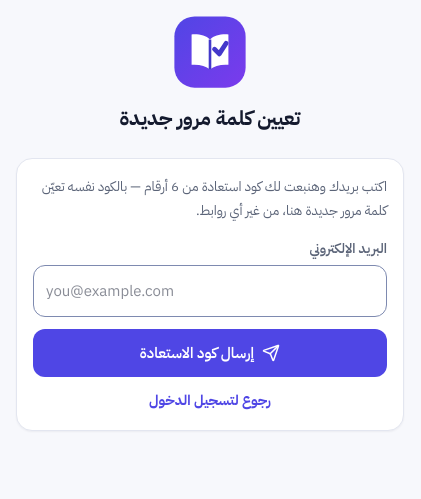
ResetPasswordPage — تحقق البريد بالعربية بدل فقاعات المتصفح (3A-911) › طلب الكود ببريد فاسد الصيغة: رسالة الصيغة ولا يُطلب الكود
Step 1. Type "not-an-email" into the field labelled "البريد الإلكتروني" → point(210, 291), box [33, 265, 387, 317]
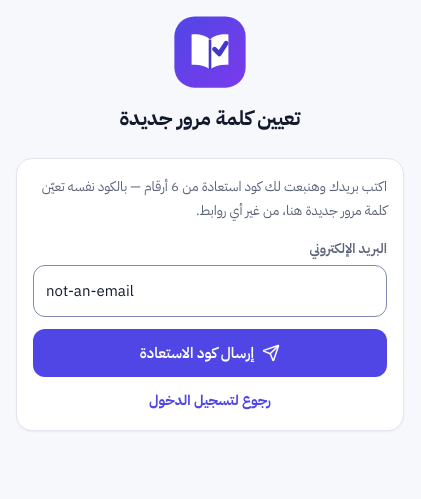
Step 2. Click the button "إرسال كود الاستعادة" → point(210, 353), box [33, 329, 387, 377]
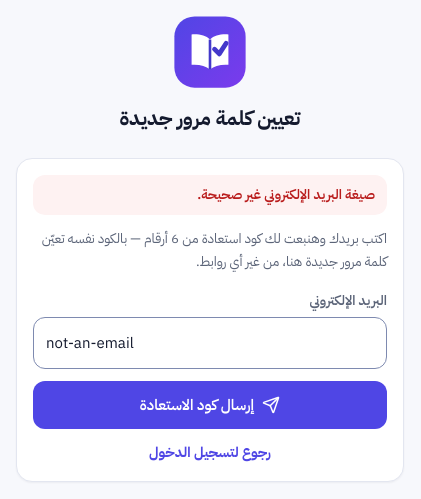
Now the message shows "صيغة البريد الإلكتروني غير صحيحة", box [197, 184, 375, 205]
